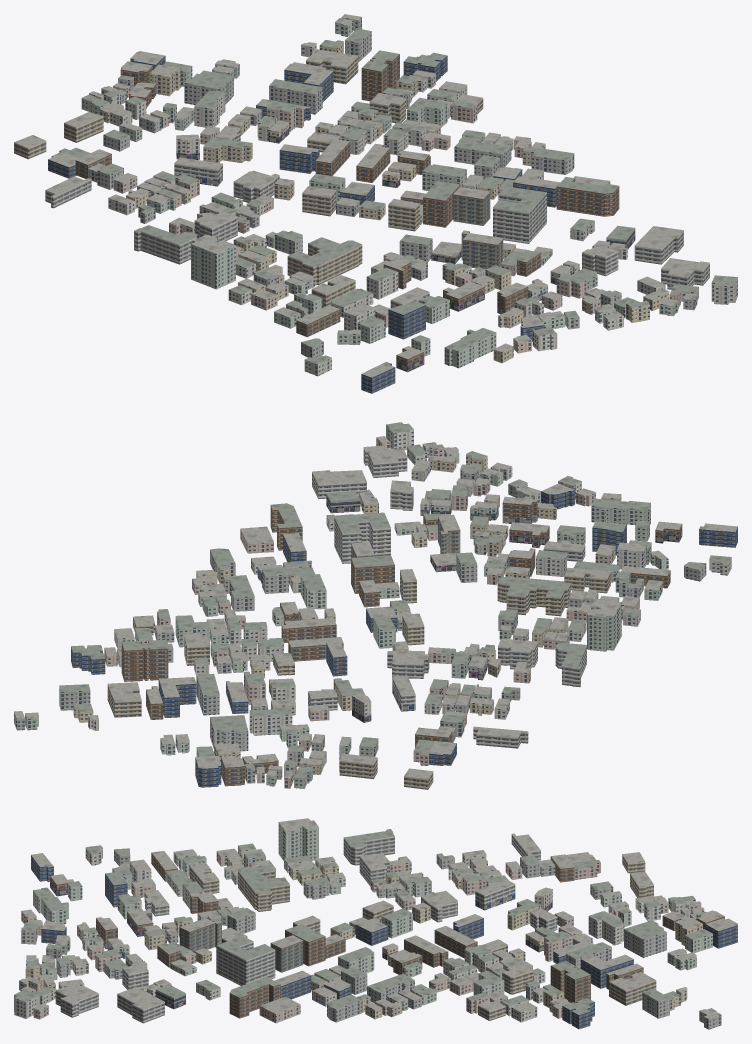
The model's file is ArahaTown_Block_W03072_S04096.gltf.
3 renders of one model, top to bottom at view 1: azimuth 30°, elevation 25°; view 2: azimuth 150°, elevation 25°; view 3: azimuth 270°, elevation 25°, orthographic. The views are drawn at different scales.
Parts seen in each view (by area): view 1: ArahaTown_Block_W03072_S04096; view 2: ArahaTown_Block_W03072_S04096; view 3: ArahaTown_Block_W03072_S04096.
Boxes of the visible parts, x1,y1,x2,y2 form: ArahaTown_Block_W03072_S04096: (14,14,737,393); ArahaTown_Block_W03072_S04096: (14,422,737,789); ArahaTown_Block_W03072_S04096: (14,818,737,1029).
Bounding box in the file's own units: 328 × 33.7 × 527.
Materials: 15 (15 with a texture image).
